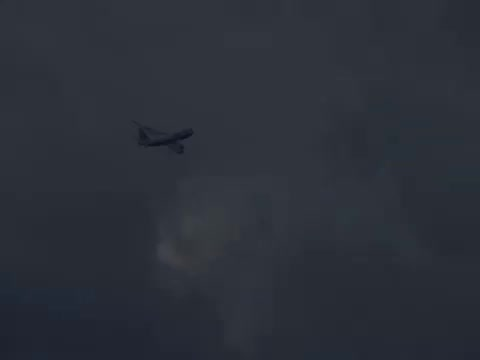aeroplane: (132, 117, 198, 156)
